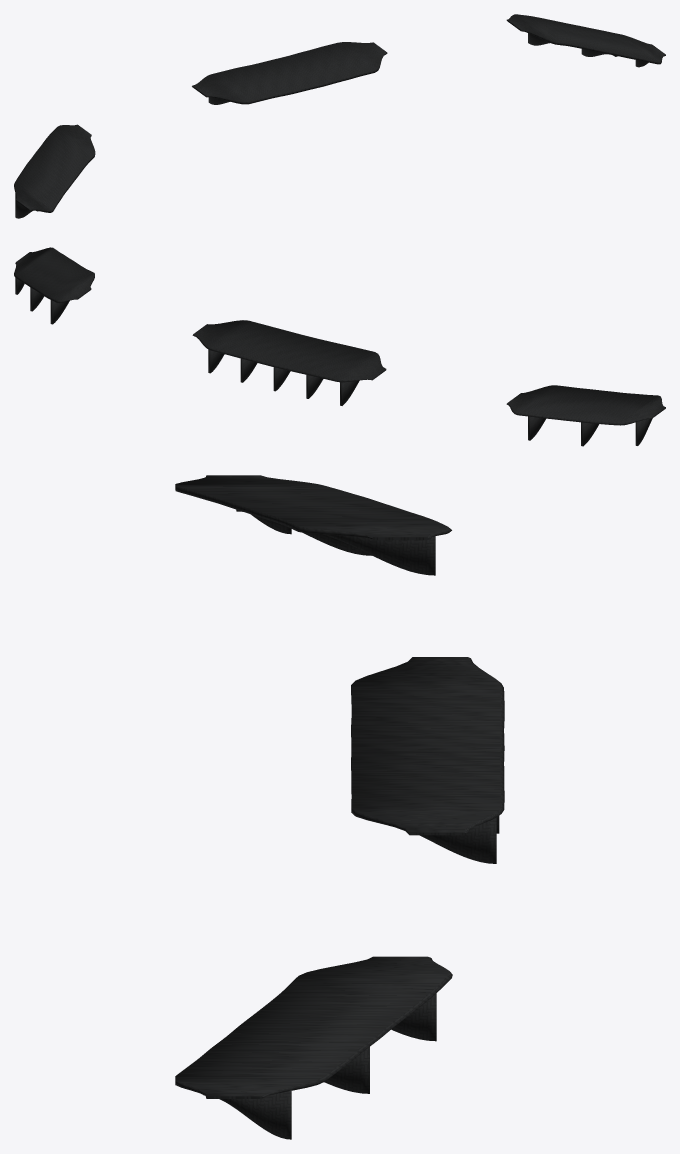
Rendered from RA04B_rear_diffuser_carbon.glb.
3 views of the same model, one above another, from view 1: azimuth 30°, elevation 25°; view 2: azimuth 150°, elevation 25°; view 3: azimuth 270°, elevation 25° (orthographic). The views are drawn at different scales.
Parts seen in each view (by area): view 1: MOD_ND_RA04B_blade_centre, MOD_ND_RA04B_blade_outer_R, MOD_ND_RA04B_blade_outer_L; view 2: MOD_ND_RA04B_blade_centre, MOD_ND_RA04B_blade_outer_R, MOD_ND_RA04B_blade_outer_L; view 3: MOD_ND_RA04B_blade_centre, MOD_ND_RA04B_blade_outer_L, MOD_ND_RA04B_blade_outer_R, MOD_ND_RA04B_strake_R0, MOD_ND_RA04B_strake_L2, MOD_ND_RA04B_strake_c4, MOD_ND_RA04B_strake_L0, MOD_ND_RA04B_strake_L1.
Part boxes in pixels (x1=…): MOD_ND_RA04B_blade_centre: x1=192, y1=42, x2=387, y2=104; MOD_ND_RA04B_blade_outer_R: x1=14, y1=124, x2=95, y2=212; MOD_ND_RA04B_blade_outer_L: x1=506, y1=14, x2=665, y2=64; MOD_ND_RA04B_blade_centre: x1=192, y1=320, x2=386, y2=382; MOD_ND_RA04B_blade_outer_R: x1=506, y1=385, x2=665, y2=425; MOD_ND_RA04B_blade_outer_L: x1=14, y1=247, x2=94, y2=303; MOD_ND_RA04B_blade_centre: x1=351, y1=657, x2=504, y2=835; MOD_ND_RA04B_blade_outer_L: x1=175, y1=956, x2=452, y2=1098; MOD_ND_RA04B_blade_outer_R: x1=175, y1=475, x2=451, y2=540; MOD_ND_RA04B_strake_R0: x1=322, y1=534, x2=435, y2=575; MOD_ND_RA04B_strake_L2: x1=219, y1=1090, x2=291, y2=1139; MOD_ND_RA04B_strake_c4: x1=420, y1=817, x2=496, y2=863; MOD_ND_RA04B_strake_L0: x1=391, y1=993, x2=436, y2=1041; MOD_ND_RA04B_strake_L1: x1=324, y1=1047, x2=369, y2=1093.
Size of the model in its own units: 1.2 by 0.0824 by 0.2692.
1 material, 1 textured.
